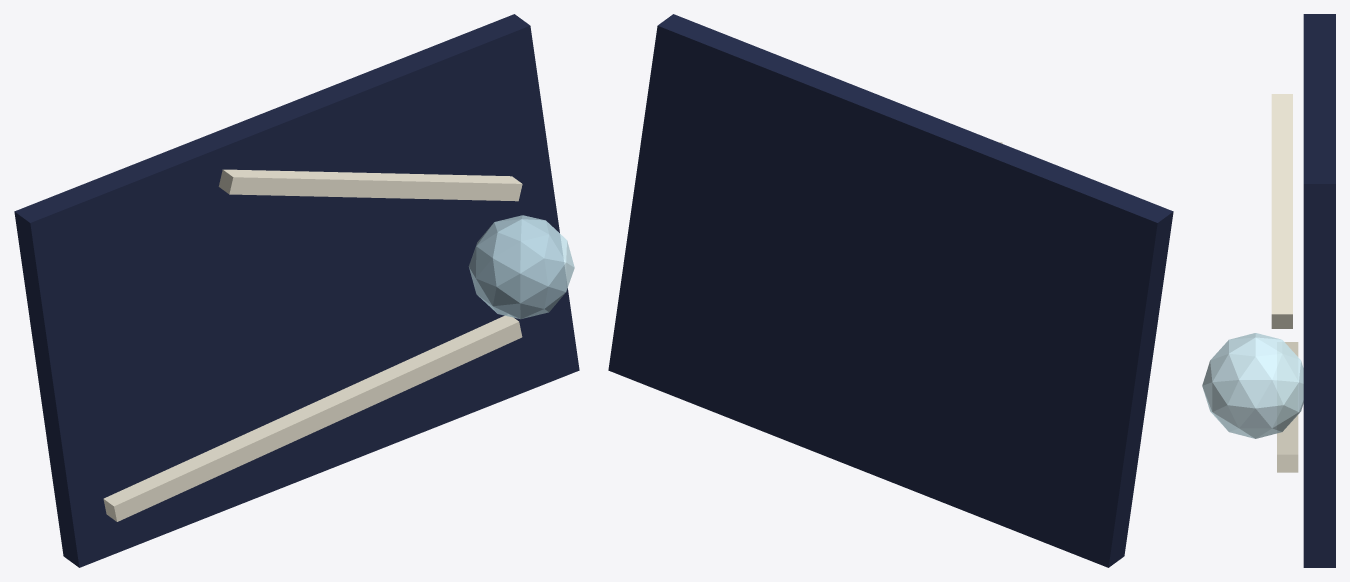
File: 02_world_prop_polish.glb
The picture shows the model from 3 angles, left to right: view 1: azimuth 30°, elevation 25°; view 2: azimuth 150°, elevation 25°; view 3: azimuth 270°, elevation 25°; orthographic projection.
Parts seen in each view (by area): view 1: object_overlay_plate, edge_wear_a, glow_socket, edge_wear_b; view 2: object_overlay_plate; view 3: object_overlay_plate, glow_socket, edge_wear_b, edge_wear_a.
Boxes of the visible parts, x1,y1,x2,y2 form: object_overlay_plate: (14, 14, 579, 567); edge_wear_a: (103, 314, 522, 521); glow_socket: (468, 215, 574, 319); edge_wear_b: (218, 169, 522, 201); object_overlay_plate: (608, 14, 1173, 567); object_overlay_plate: (1303, 14, 1335, 567); glow_socket: (1202, 333, 1303, 438); edge_wear_b: (1271, 94, 1292, 328); edge_wear_a: (1277, 342, 1298, 472).
Bounding box in the file's own units: 1.2 × 0.8992 × 0.25.
